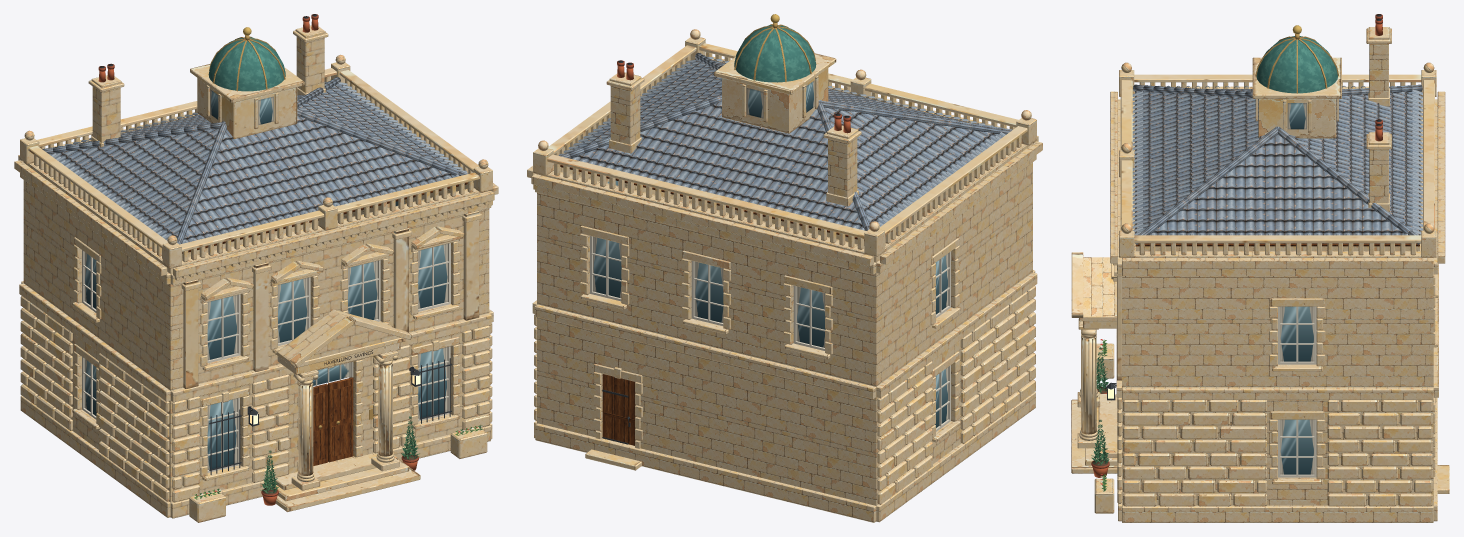
3 renders of one model, left to right at view 1: azimuth 30°, elevation 25°; view 2: azimuth 150°, elevation 25°; view 3: azimuth 270°, elevation 25°, orthographic. The views are drawn at different scales.
Visible parts, largest first — view 1: seaside_stone, seaside_roof, house_window_pane, house_paint, seaside_ridge, seaside_timber, detail_planters, bank_copper; view 2: seaside_stone, seaside_roof, house_window_pane, house_paint, bank_copper, seaside_ridge, seaside_timber; view 3: seaside_stone, seaside_roof, house_window_pane, seaside_ridge, bank_copper, house_paint, detail_planters, seaside_timber.
Part boxes in pixels (box(x1,y1,x2,y2)): seaside_stone: box(14, 25, 498, 518); seaside_roof: box(49, 81, 467, 243); house_window_pane: box(84, 89, 447, 469); house_paint: box(82, 14, 451, 474); seaside_ridge: box(42, 77, 468, 244); seaside_timber: box(182, 182, 467, 465); detail_planters: box(189, 416, 487, 522); bank_copper: box(208, 37, 285, 91); seaside_stone: box(527, 29, 1042, 522); seaside_roof: box(558, 57, 1005, 230); house_window_pane: box(593, 80, 948, 427); house_paint: box(590, 14, 950, 444); bank_copper: box(734, 25, 816, 82); seaside_ridge: box(559, 52, 1012, 230); seaside_timber: box(560, 165, 864, 445); seaside_stone: box(1071, 27, 1449, 522); seaside_roof: box(1132, 85, 1422, 243); house_window_pane: box(1280, 103, 1314, 474); seaside_ridge: box(1133, 84, 1422, 244); bank_copper: box(1256, 36, 1337, 93); house_paint: box(1106, 14, 1382, 477); detail_planters: box(1091, 339, 1114, 513); seaside_timber: box(1135, 243, 1419, 246).
Bounding box in the file's own units: 10.6 × 11.71 × 9.71.
Materials: 8 (7 with a texture image).
